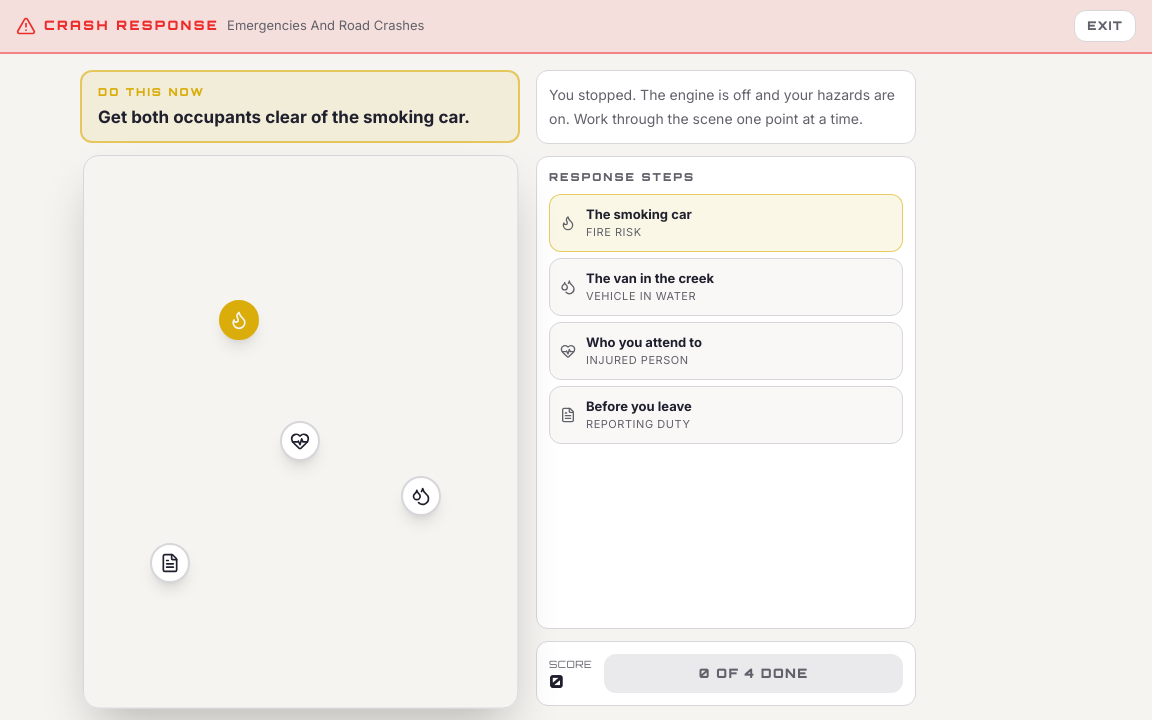
it: what the crash scene is, and is not › moves the objective on as the scene is dealt with
// Answer the first point, and the objective becomes the second.
Click the button named "Fire risk: The smoking car — deal with this next" at (239, 320), box [219,300,259,340]
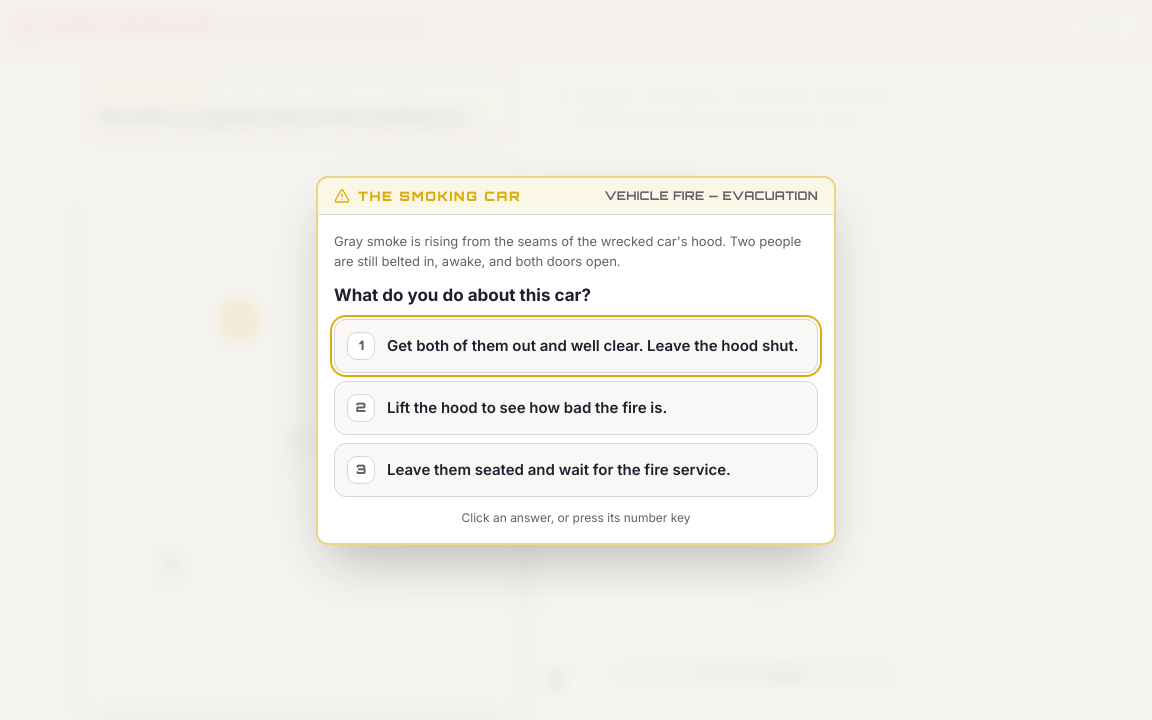
Click the button "1 Get both of them out and well clear. Leave the hood shut." at (576, 346), box [334,318,818,372]
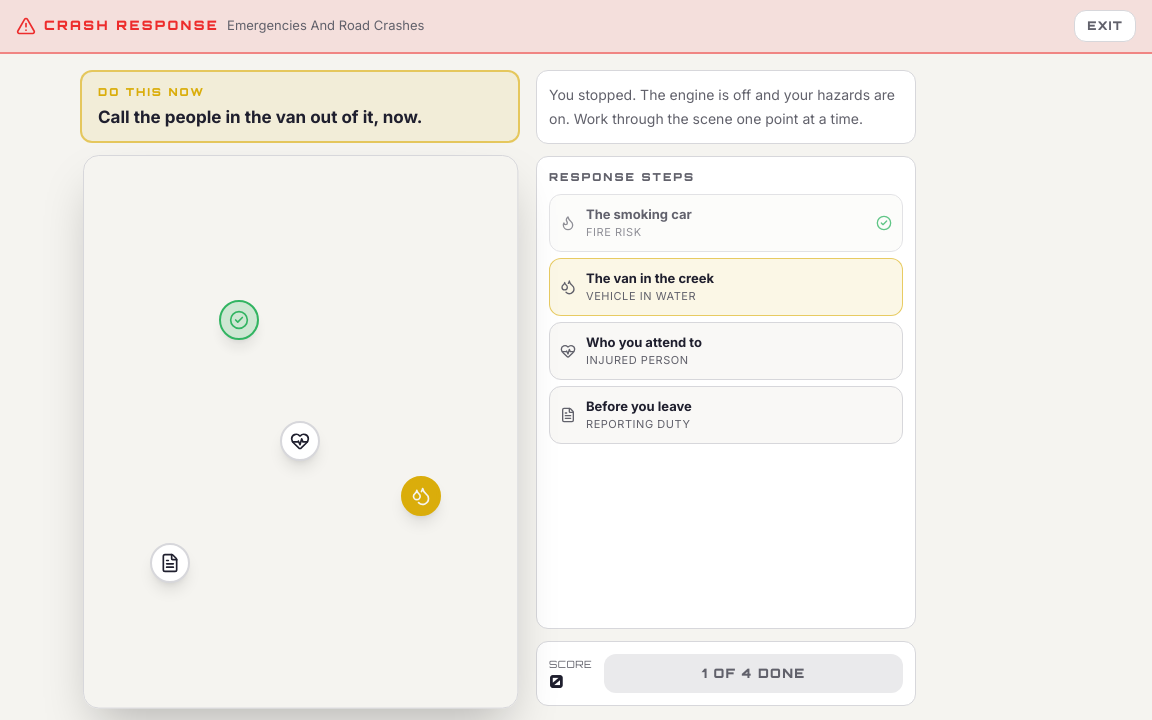
Check: the text "Get both occupants clear of the smoking car." is gone
Check: the text "Call the people in the van out of it, now." is shown, box [98,106,422,126]
